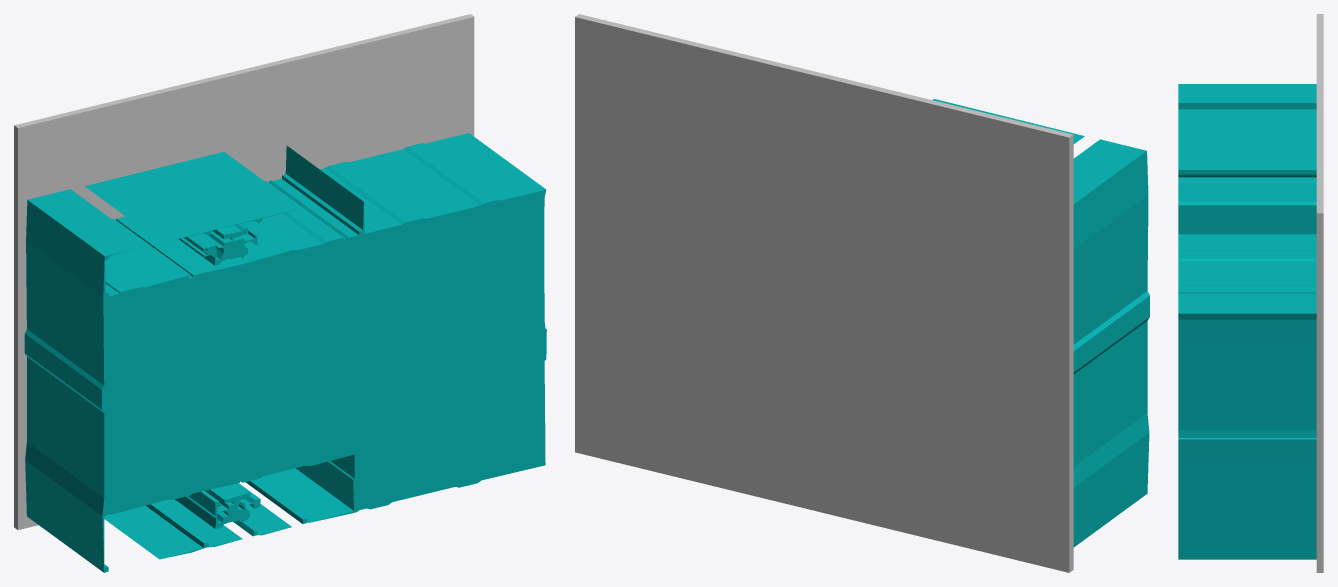
The picture shows the model from 3 angles, left to right: view 1: azimuth 30°, elevation 25°; view 2: azimuth 150°, elevation 25°; view 3: azimuth 270°, elevation 25°; orthographic projection. The views are drawn at different scales.
Parts seen in each view (by area): view 1: world; view 2: world; view 3: world.
Part boxes in pixels (x1=…): world: x1=14, y1=14, x2=546, y2=572; world: x1=575, y1=14, x2=1149, y2=572; world: x1=1178, y1=14, x2=1323, y2=572.
Size of the model in its own units: 10.23 by 8.61 by 3.15.
